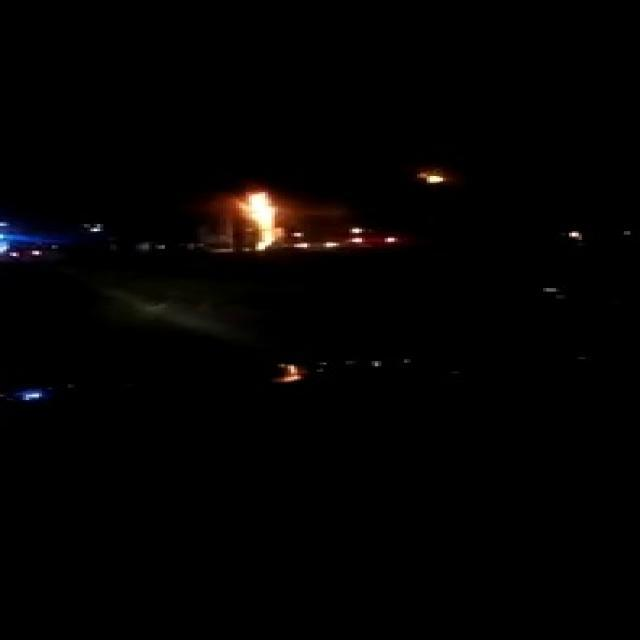Fire: (247, 181, 294, 251)
